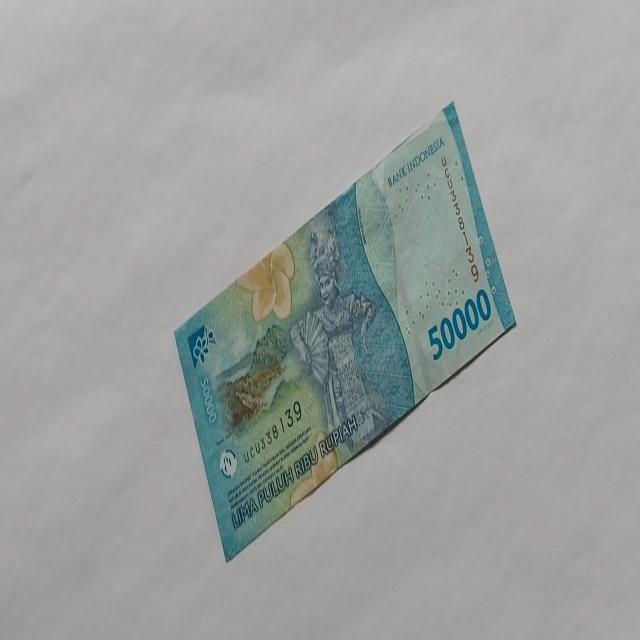lima puluh ribu rupiah: (172, 98, 518, 562), (426, 287, 492, 362)
